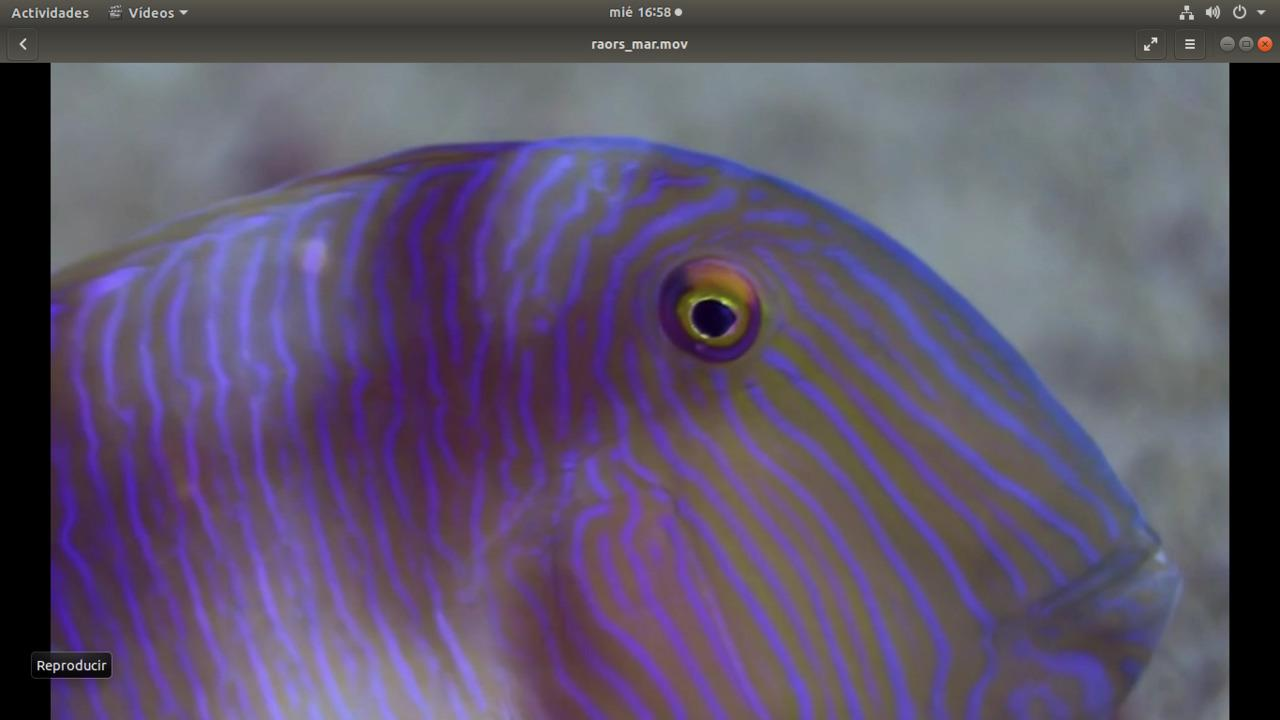raor: (120, 129, 1193, 710)
